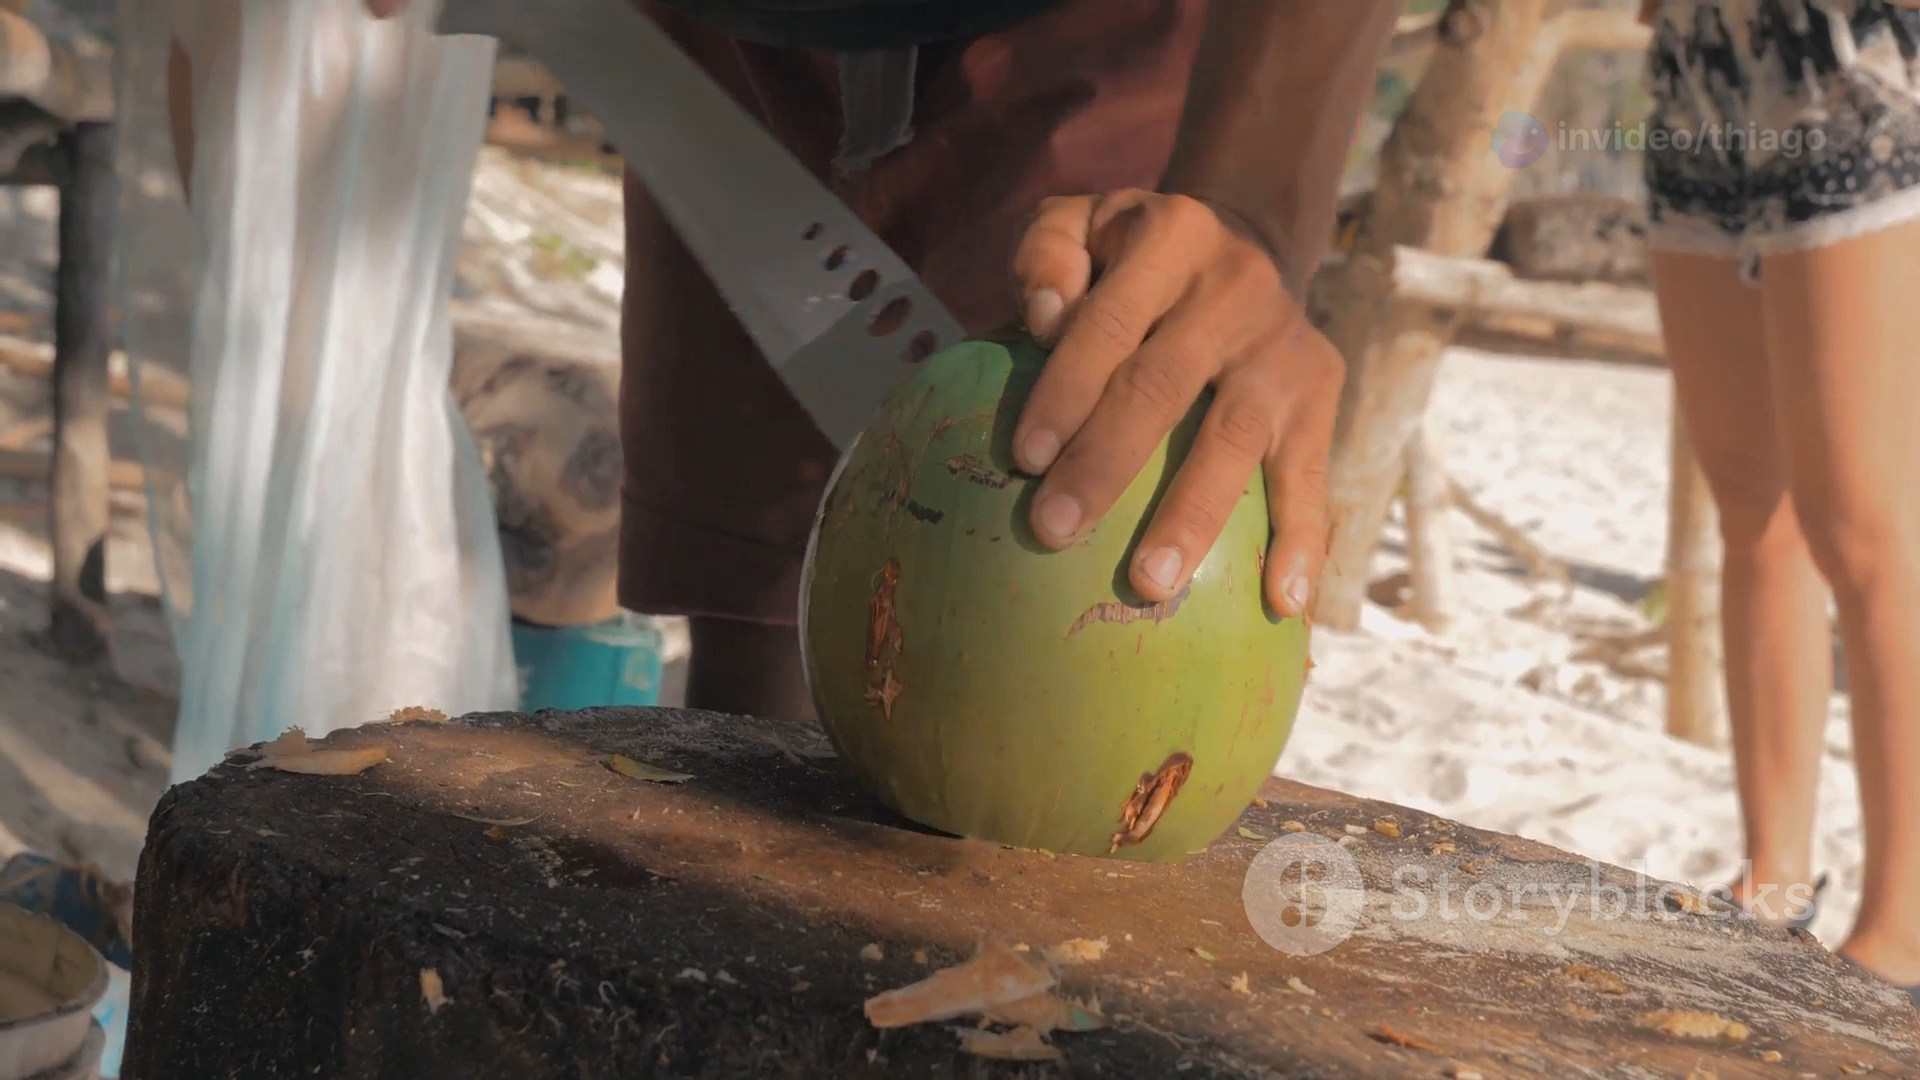cortante: (431, 0, 971, 458)
